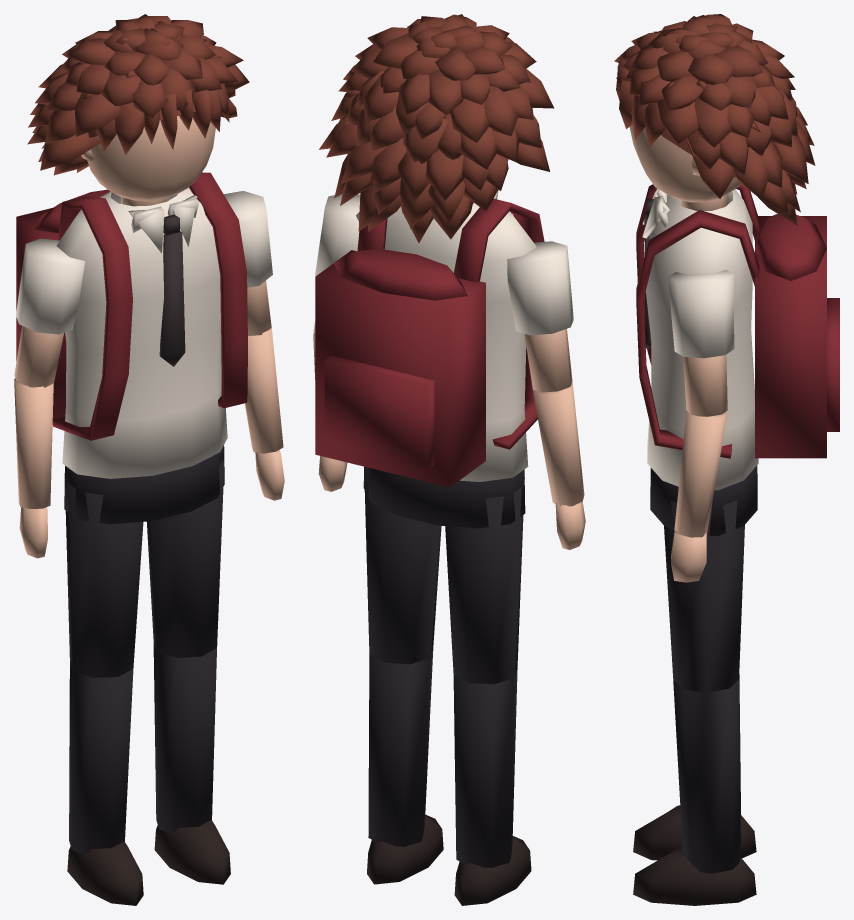
Rendered from lance.glb.
3 renders of one model, left to right at view 1: azimuth 30°, elevation 25°; view 2: azimuth 150°, elevation 25°; view 3: azimuth 270°, elevation 25°, orthographic.
Visible parts, largest first — view 1: Body, Hair, Head; view 2: Body, Hair; view 3: Body, Hair, Head.
Part boxes in pixels (<box>): Body: <box>14,172,284,905</box>; Hair: <box>27,14,249,175</box>; Head: <box>81,115,215,206</box>; Body: <box>313,190,585,905</box>; Hair: <box>319,14,554,243</box>; Body: <box>633,183,839,905</box>; Hair: <box>614,14,815,225</box>; Head: <box>629,124,740,210</box>.
Bounding box in the file's own units: 0.5879 × 1.81 × 0.439.
